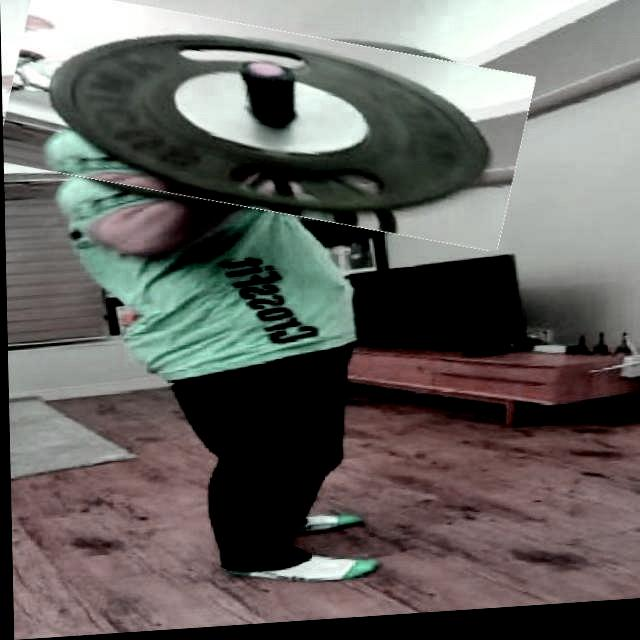barbell: (1, 1, 532, 253)
